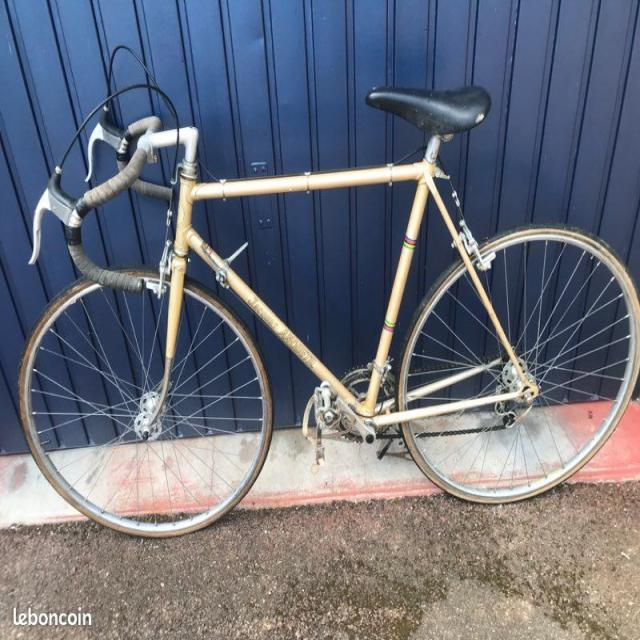Bike: (19, 86, 639, 536)
